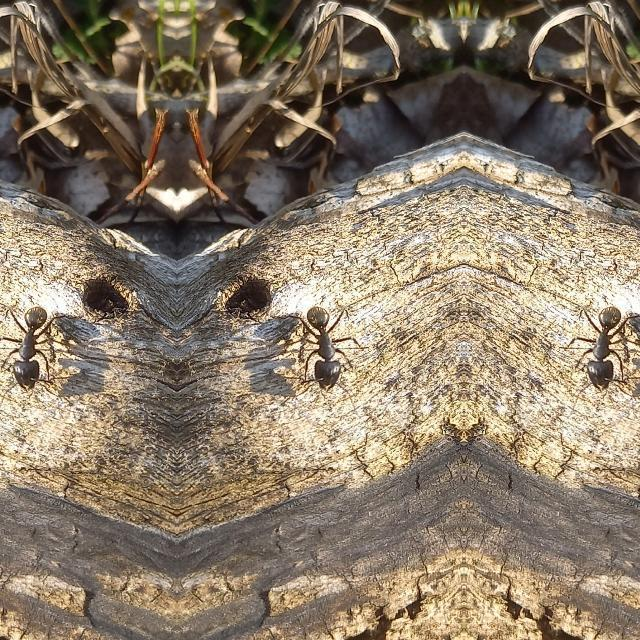Camponotus: (297, 293, 357, 391), (570, 293, 630, 391), (0, 293, 54, 391)
